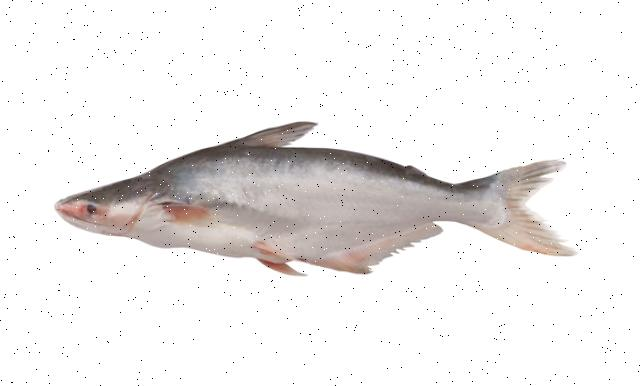Mulut: (43, 184, 115, 242)
Sirip Anal: (316, 213, 454, 276)
Sirip Dada: (155, 194, 221, 232)
Sirip Ekor: (482, 142, 594, 262)
Sirip Perut: (246, 238, 308, 288)
Sirip Punggung: (240, 116, 324, 164)
